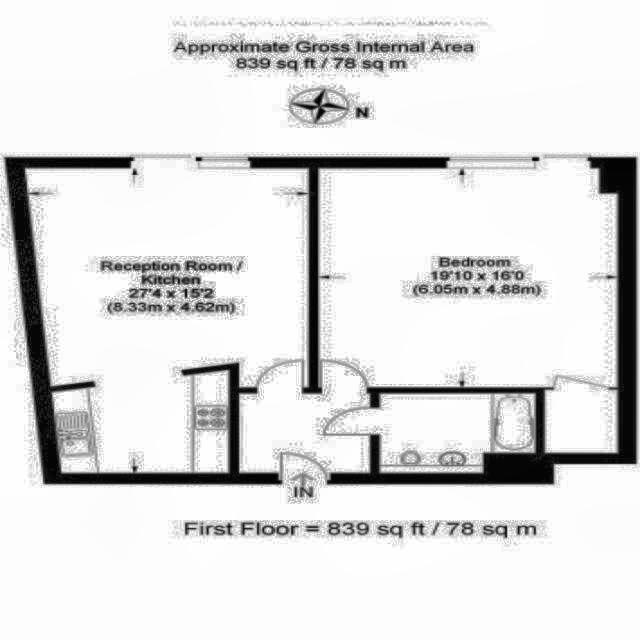room: (318, 160, 618, 454), (24, 168, 309, 389), (53, 371, 230, 476), (379, 393, 536, 474), (238, 393, 371, 474)
